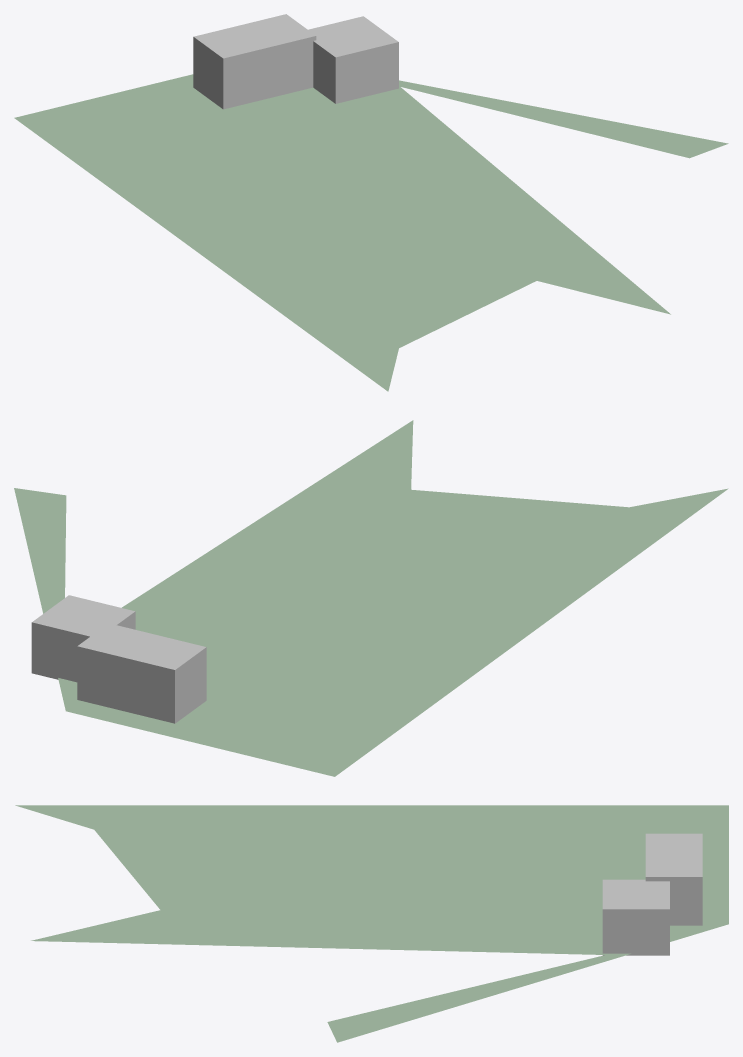
The model's file is 139_82_mid.glb.
The picture shows the model from 3 angles, top to bottom: view 1: azimuth 30°, elevation 25°; view 2: azimuth 150°, elevation 25°; view 3: azimuth 270°, elevation 25°; orthographic projection. The views are drawn at different scales.
Bounding box in the file's own units: 151 × 15 × 192.
